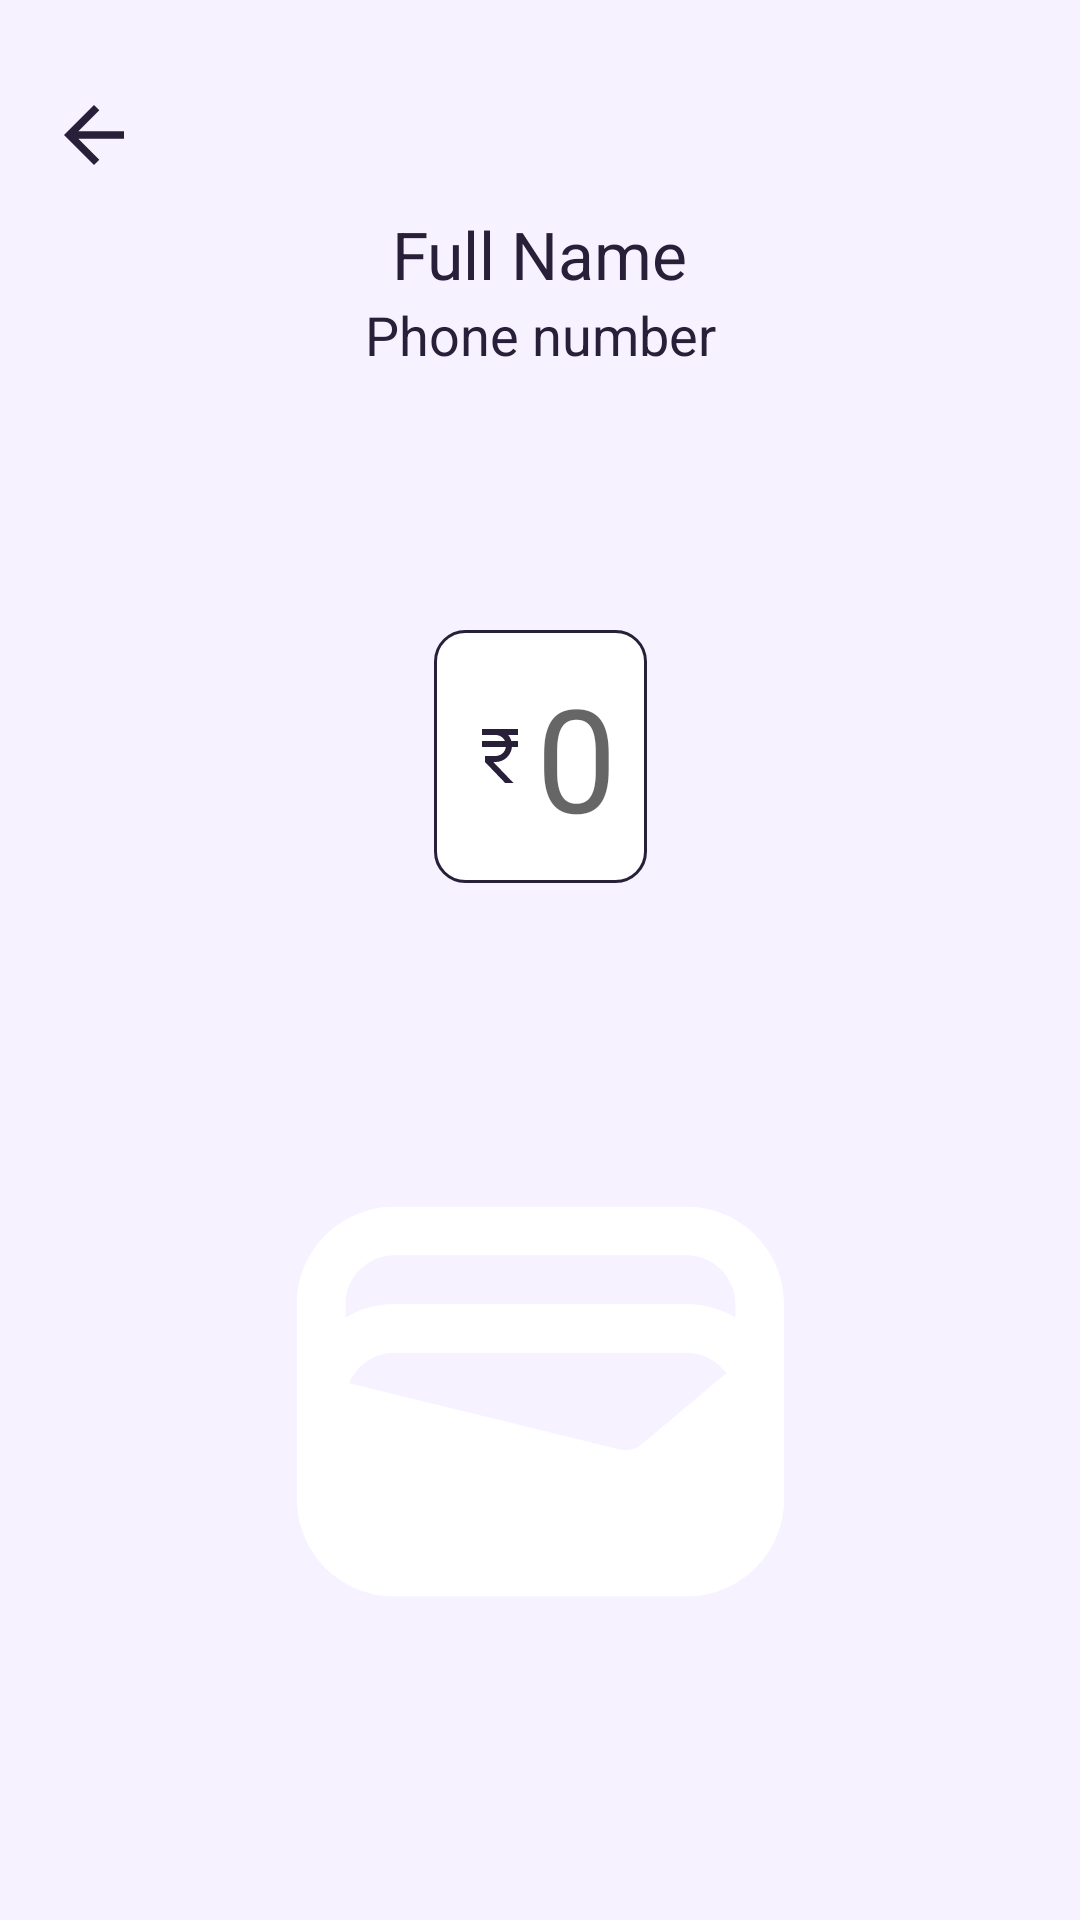

Icon bounding boxes for this 1080w x 1920h phone screenshot, format {"left": x1, "top": y1, "right": x2, "bottom": y2}:
back: {"left": 64, "top": 105, "right": 124, "bottom": 165}
